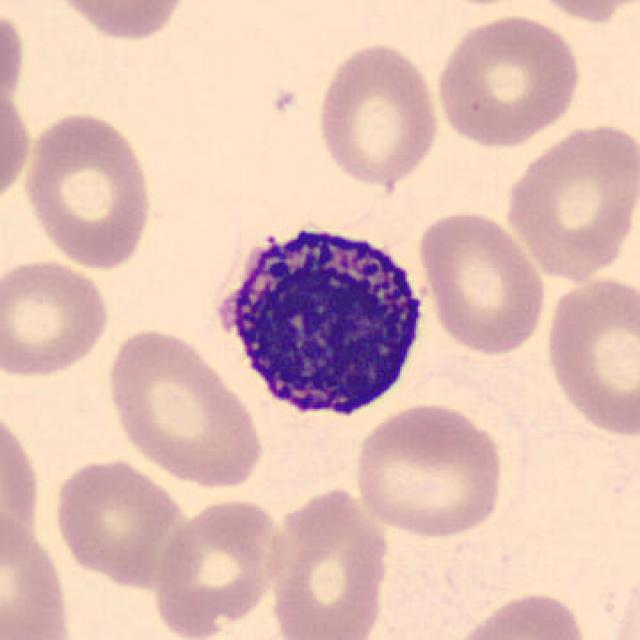Basophil: (206, 208, 436, 430)
RBC: (101, 323, 267, 492), (500, 116, 638, 284), (18, 108, 156, 272), (351, 398, 508, 542), (432, 12, 585, 150), (412, 206, 548, 358), (265, 483, 395, 640), (151, 494, 292, 636), (313, 39, 444, 190), (50, 455, 190, 587), (540, 270, 638, 441), (0, 254, 114, 381), (0, 506, 75, 638), (450, 587, 590, 640), (0, 400, 43, 564), (44, 0, 192, 44), (0, 83, 34, 211), (0, 3, 28, 116), (524, 0, 638, 25), (608, 564, 640, 640)
